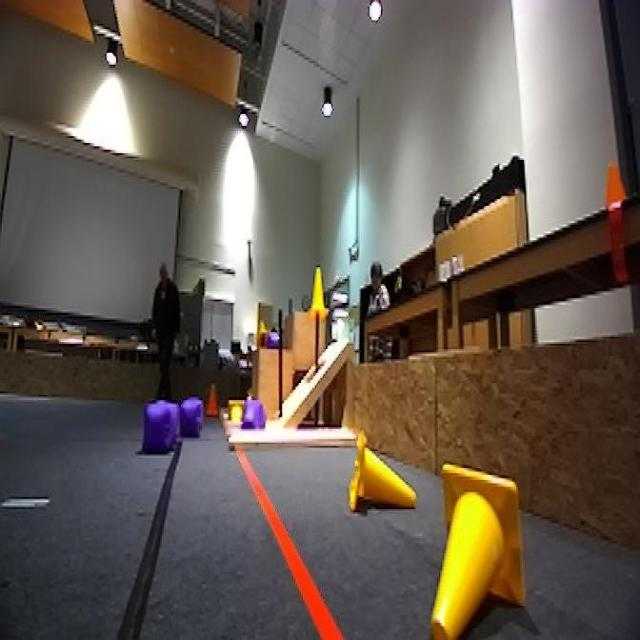frc_cone: (430, 462, 528, 638), (343, 429, 418, 524), (308, 268, 329, 318), (226, 402, 248, 427)
frc_cube: (140, 403, 177, 451), (178, 395, 204, 439), (241, 398, 262, 428), (263, 330, 283, 347)
